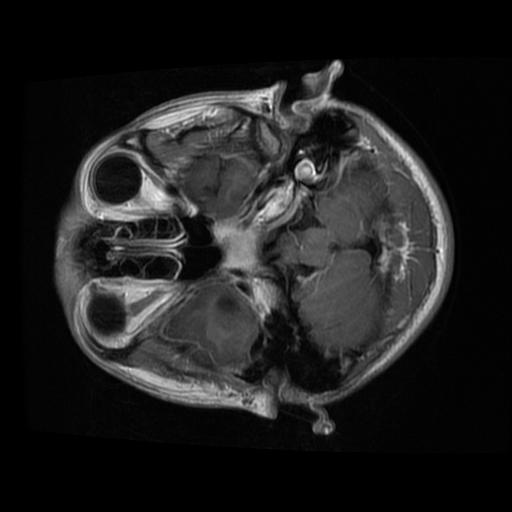glioma: (214, 293, 242, 312)
